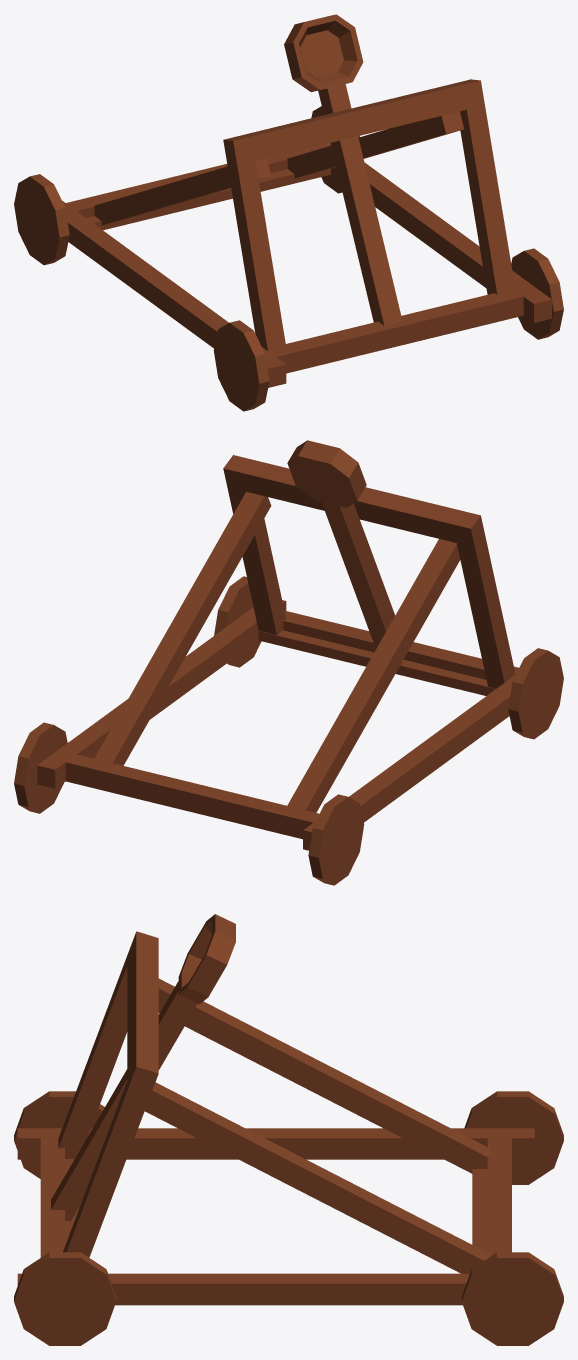
The model's file is mancnk.fbx.
3 views of the same model, one above another, from view 1: azimuth 30°, elevation 25°; view 2: azimuth 150°, elevation 25°; view 3: azimuth 270°, elevation 25° (orthographic). The views are drawn at different scales.
Visible parts, largest first — view 1: iskelet, kasik, rightF, rightB, leftF; view 2: iskelet, kasik, rightB, rightF, leftB, leftF; view 3: iskelet, kasik, leftB, leftF, rightB, rightF.
Boxes of the visible parts, x1=… form: iskelet: x1=62, y1=79, x2=551, y2=387; kasik: x1=284, y1=14, x2=402, y2=325; rightF: x1=213, y1=320, x2=269, y2=411; rightB: x1=14, y1=174, x2=69, y2=265; leftF: x1=511, y1=248, x2=563, y2=339; iskelet: x1=37, y1=455, x2=518, y2=850; kasik: x1=287, y1=440, x2=395, y2=648; rightB: x1=308, y1=794, x2=364, y2=885; rightF: x1=508, y1=648, x2=563, y2=739; leftB: x1=14, y1=722, x2=67, y2=813; leftF: x1=214, y1=576, x2=261, y2=667; iskelet: x1=17, y1=931, x2=534, y2=1305; kasik: x1=51, y1=914, x2=235, y2=1220; leftB: x1=461, y1=1252, x2=563, y2=1345; leftF: x1=14, y1=1252, x2=116, y2=1345; rightB: x1=464, y1=1091, x2=563, y2=1184; rightF: x1=14, y1=1091, x2=104, y2=1178.
Size of the model in its own units: 559 by 530 by 780.
